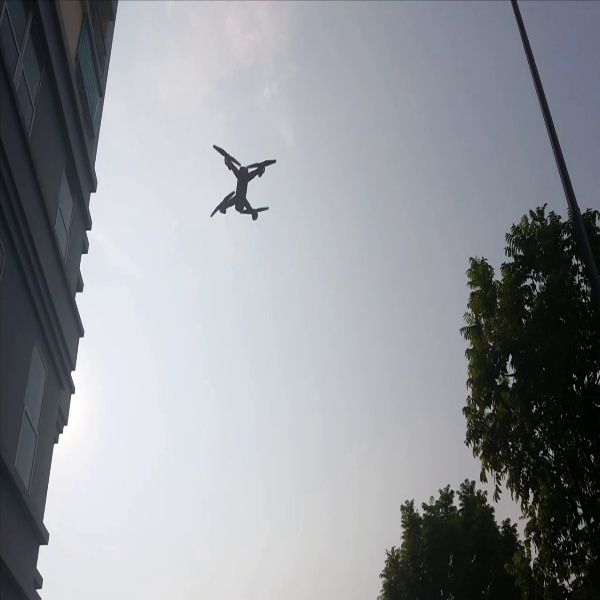drone: (199, 137, 276, 223)
